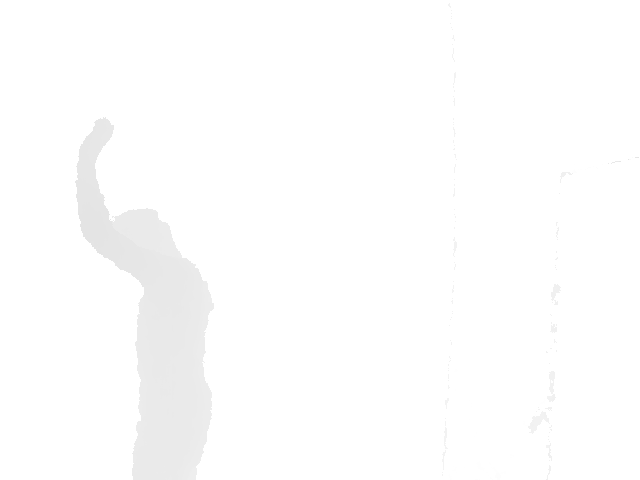hand: (75, 116, 116, 162)
head: (102, 206, 185, 265)
person: (75, 116, 216, 480)
